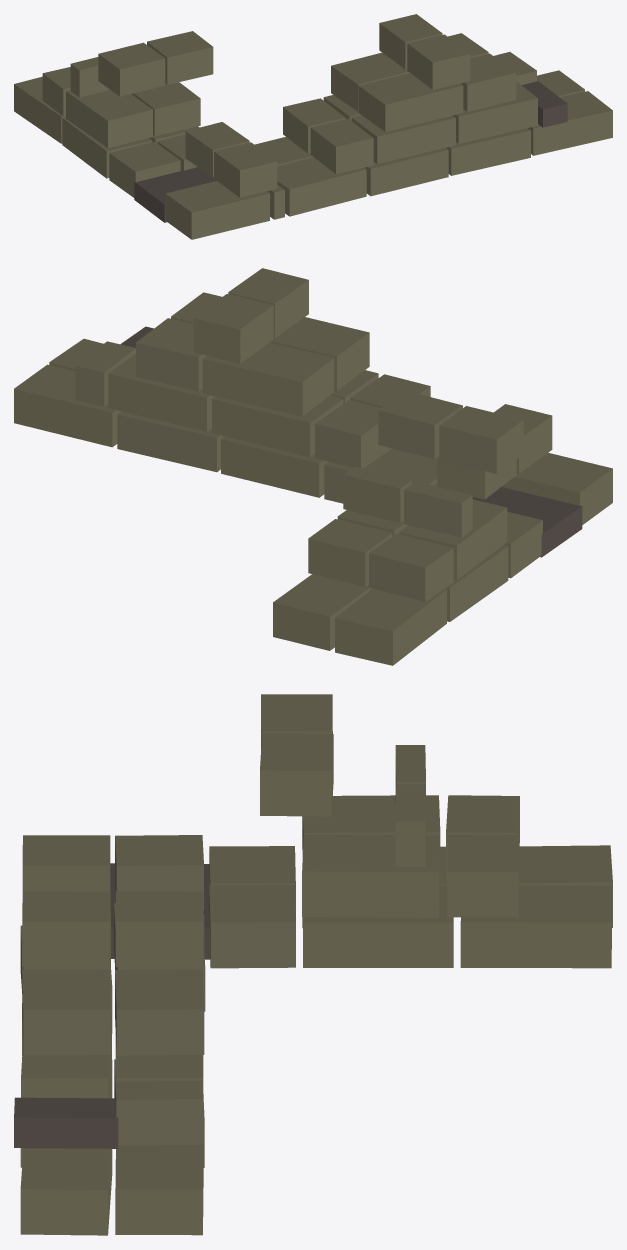
Rendered from SM_PretilEsquinaPaso_v1_Talud_e1_Danado_LOD0.fbx.
3 renders of one model, top to bottom at view 1: azimuth 30°, elevation 25°; view 2: azimuth 150°, elevation 25°; view 3: azimuth 270°, elevation 25°, orthographic. The views are drawn at different scales.
Parts seen in each view (by area): view 1: SM_pretil_azotea_v45_LOD0; view 2: SM_pretil_azotea_v45_LOD0; view 3: SM_pretil_azotea_v45_LOD0.
Part boxes in pixels (bbox=[...]): SM_pretil_azotea_v45_LOD0: bbox=[14, 14, 612, 239]; SM_pretil_azotea_v45_LOD0: bbox=[14, 268, 612, 665]; SM_pretil_azotea_v45_LOD0: bbox=[14, 694, 612, 1235].
Bounding box in the file's own units: 4.38 × 1.18 × 3.22.
